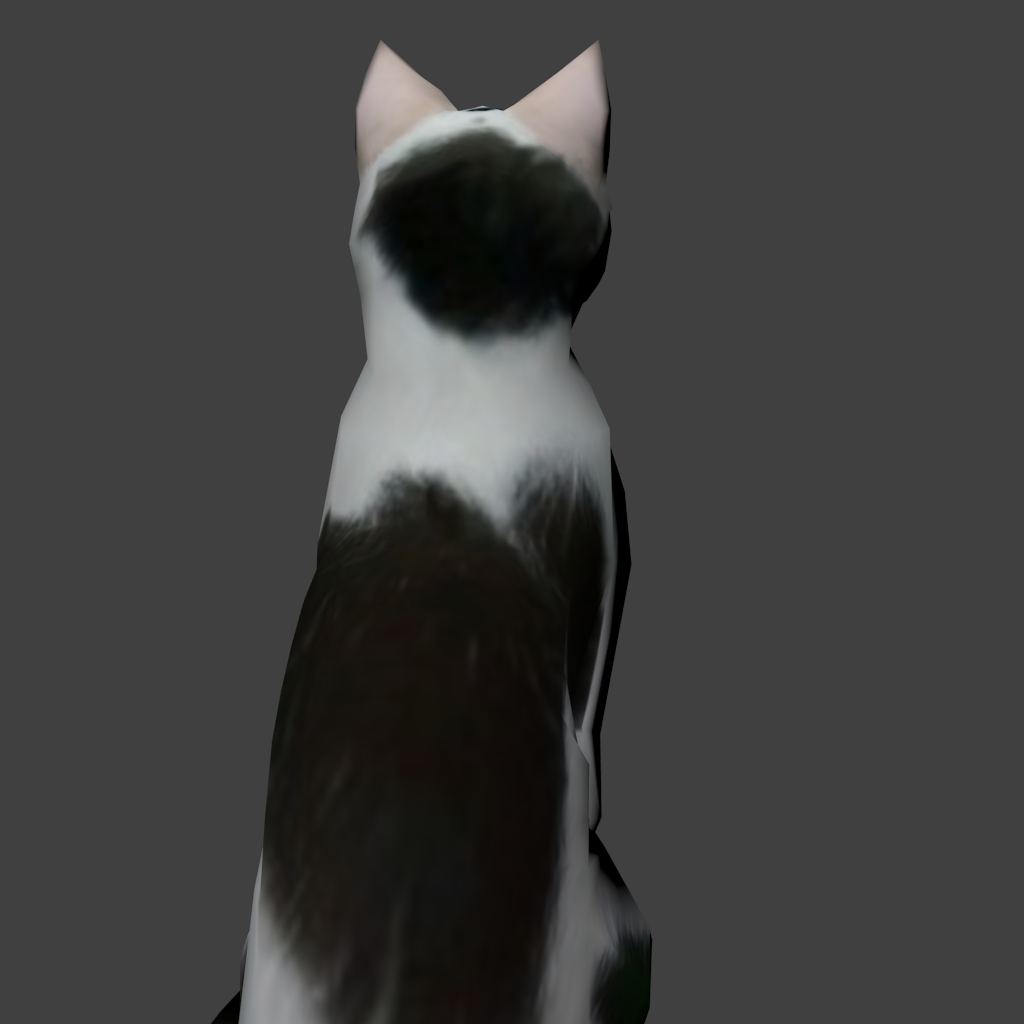Cat: (143, 40, 536, 984)
